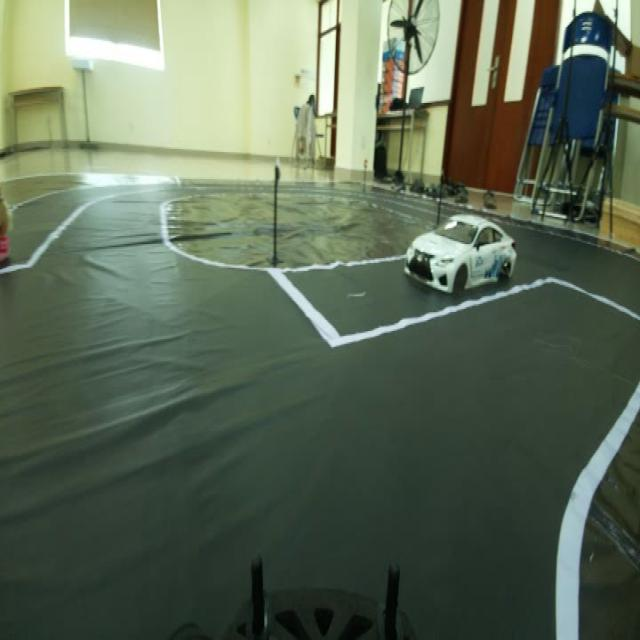car: (405, 204, 524, 300)
